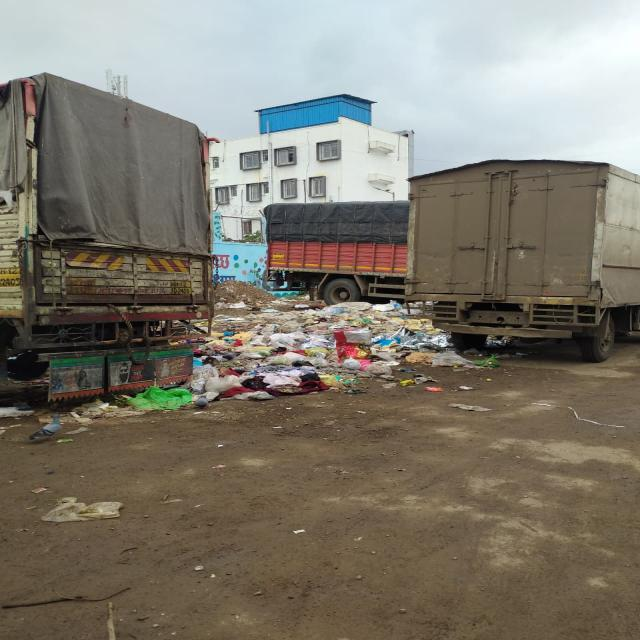garbage: (200, 301, 428, 408), (219, 280, 286, 305)
